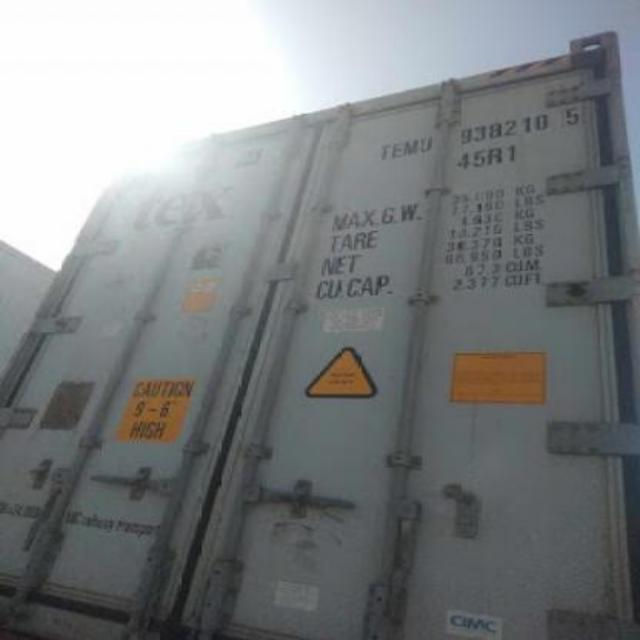0: (534, 113, 550, 133)
1: (522, 115, 532, 135)
2: (504, 118, 518, 138)
3: (474, 125, 486, 144)
5: (564, 107, 580, 127)
8: (488, 122, 502, 140)
9: (458, 127, 474, 145)
E: (392, 143, 404, 161)
M: (404, 137, 420, 159)
T: (378, 144, 392, 162)
U: (421, 136, 434, 154)
